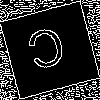C: (24, 25, 70, 80)
